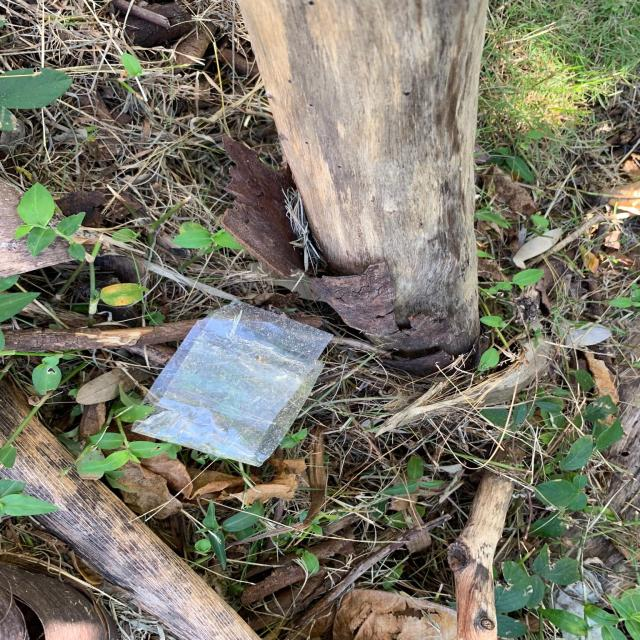litter: (132, 299, 335, 468)
